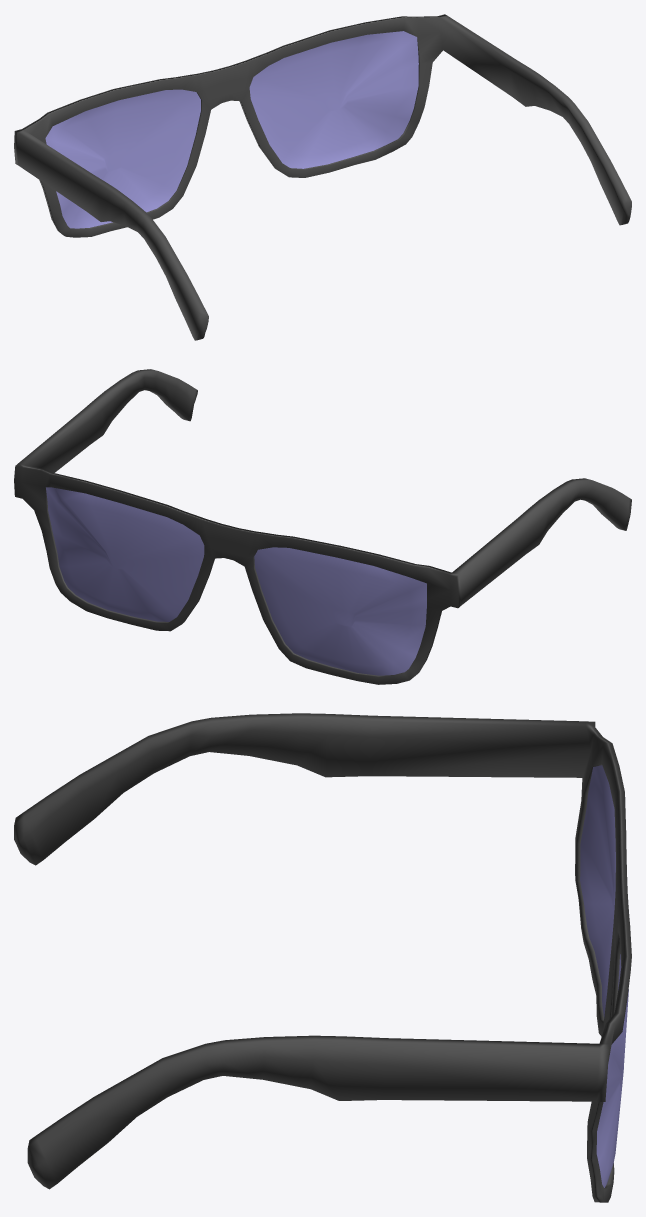
File: police.fbx
3 views of the same model, one above another, from view 1: azimuth 30°, elevation 25°; view 2: azimuth 150°, elevation 25°; view 3: azimuth 270°, elevation 25° (orthographic). The views are drawn at different scales.
Visible parts, largest first — view 1: am_body; view 2: am_body; view 3: am_body.
Part boxes in pixels (x1=…): am_body: x1=14, y1=14, x2=631, y2=340; am_body: x1=14, y1=369, x2=631, y2=684; am_body: x1=14, y1=713, x2=631, y2=1202.
Size of the model in its own units: 16.23 by 4.85 by 12.21.
